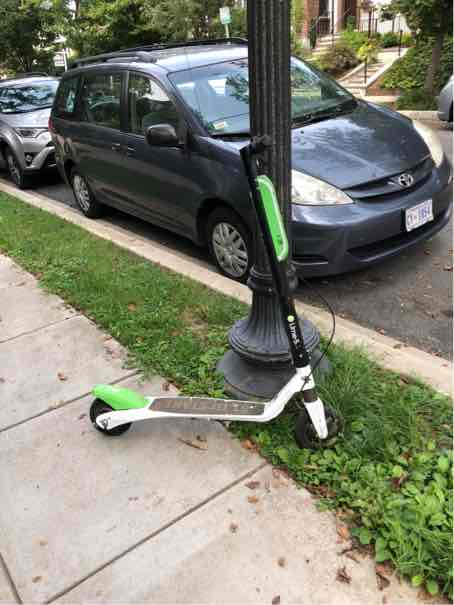scooter: (74, 134, 349, 476)
